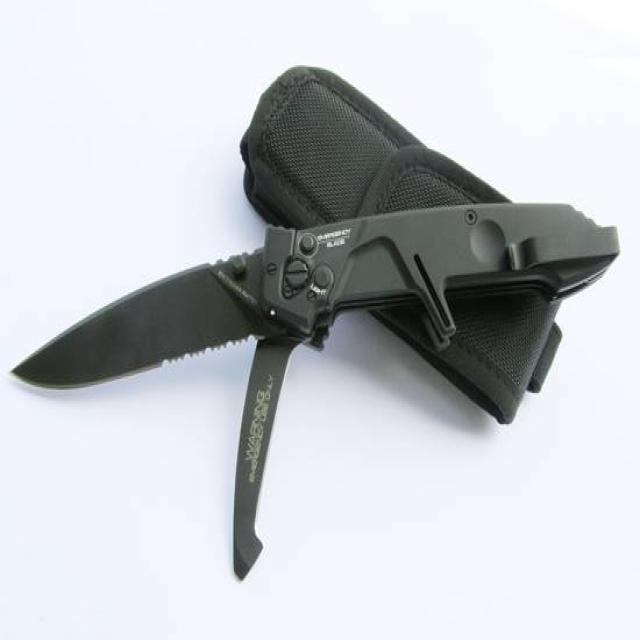knife: (7, 184, 624, 398)
